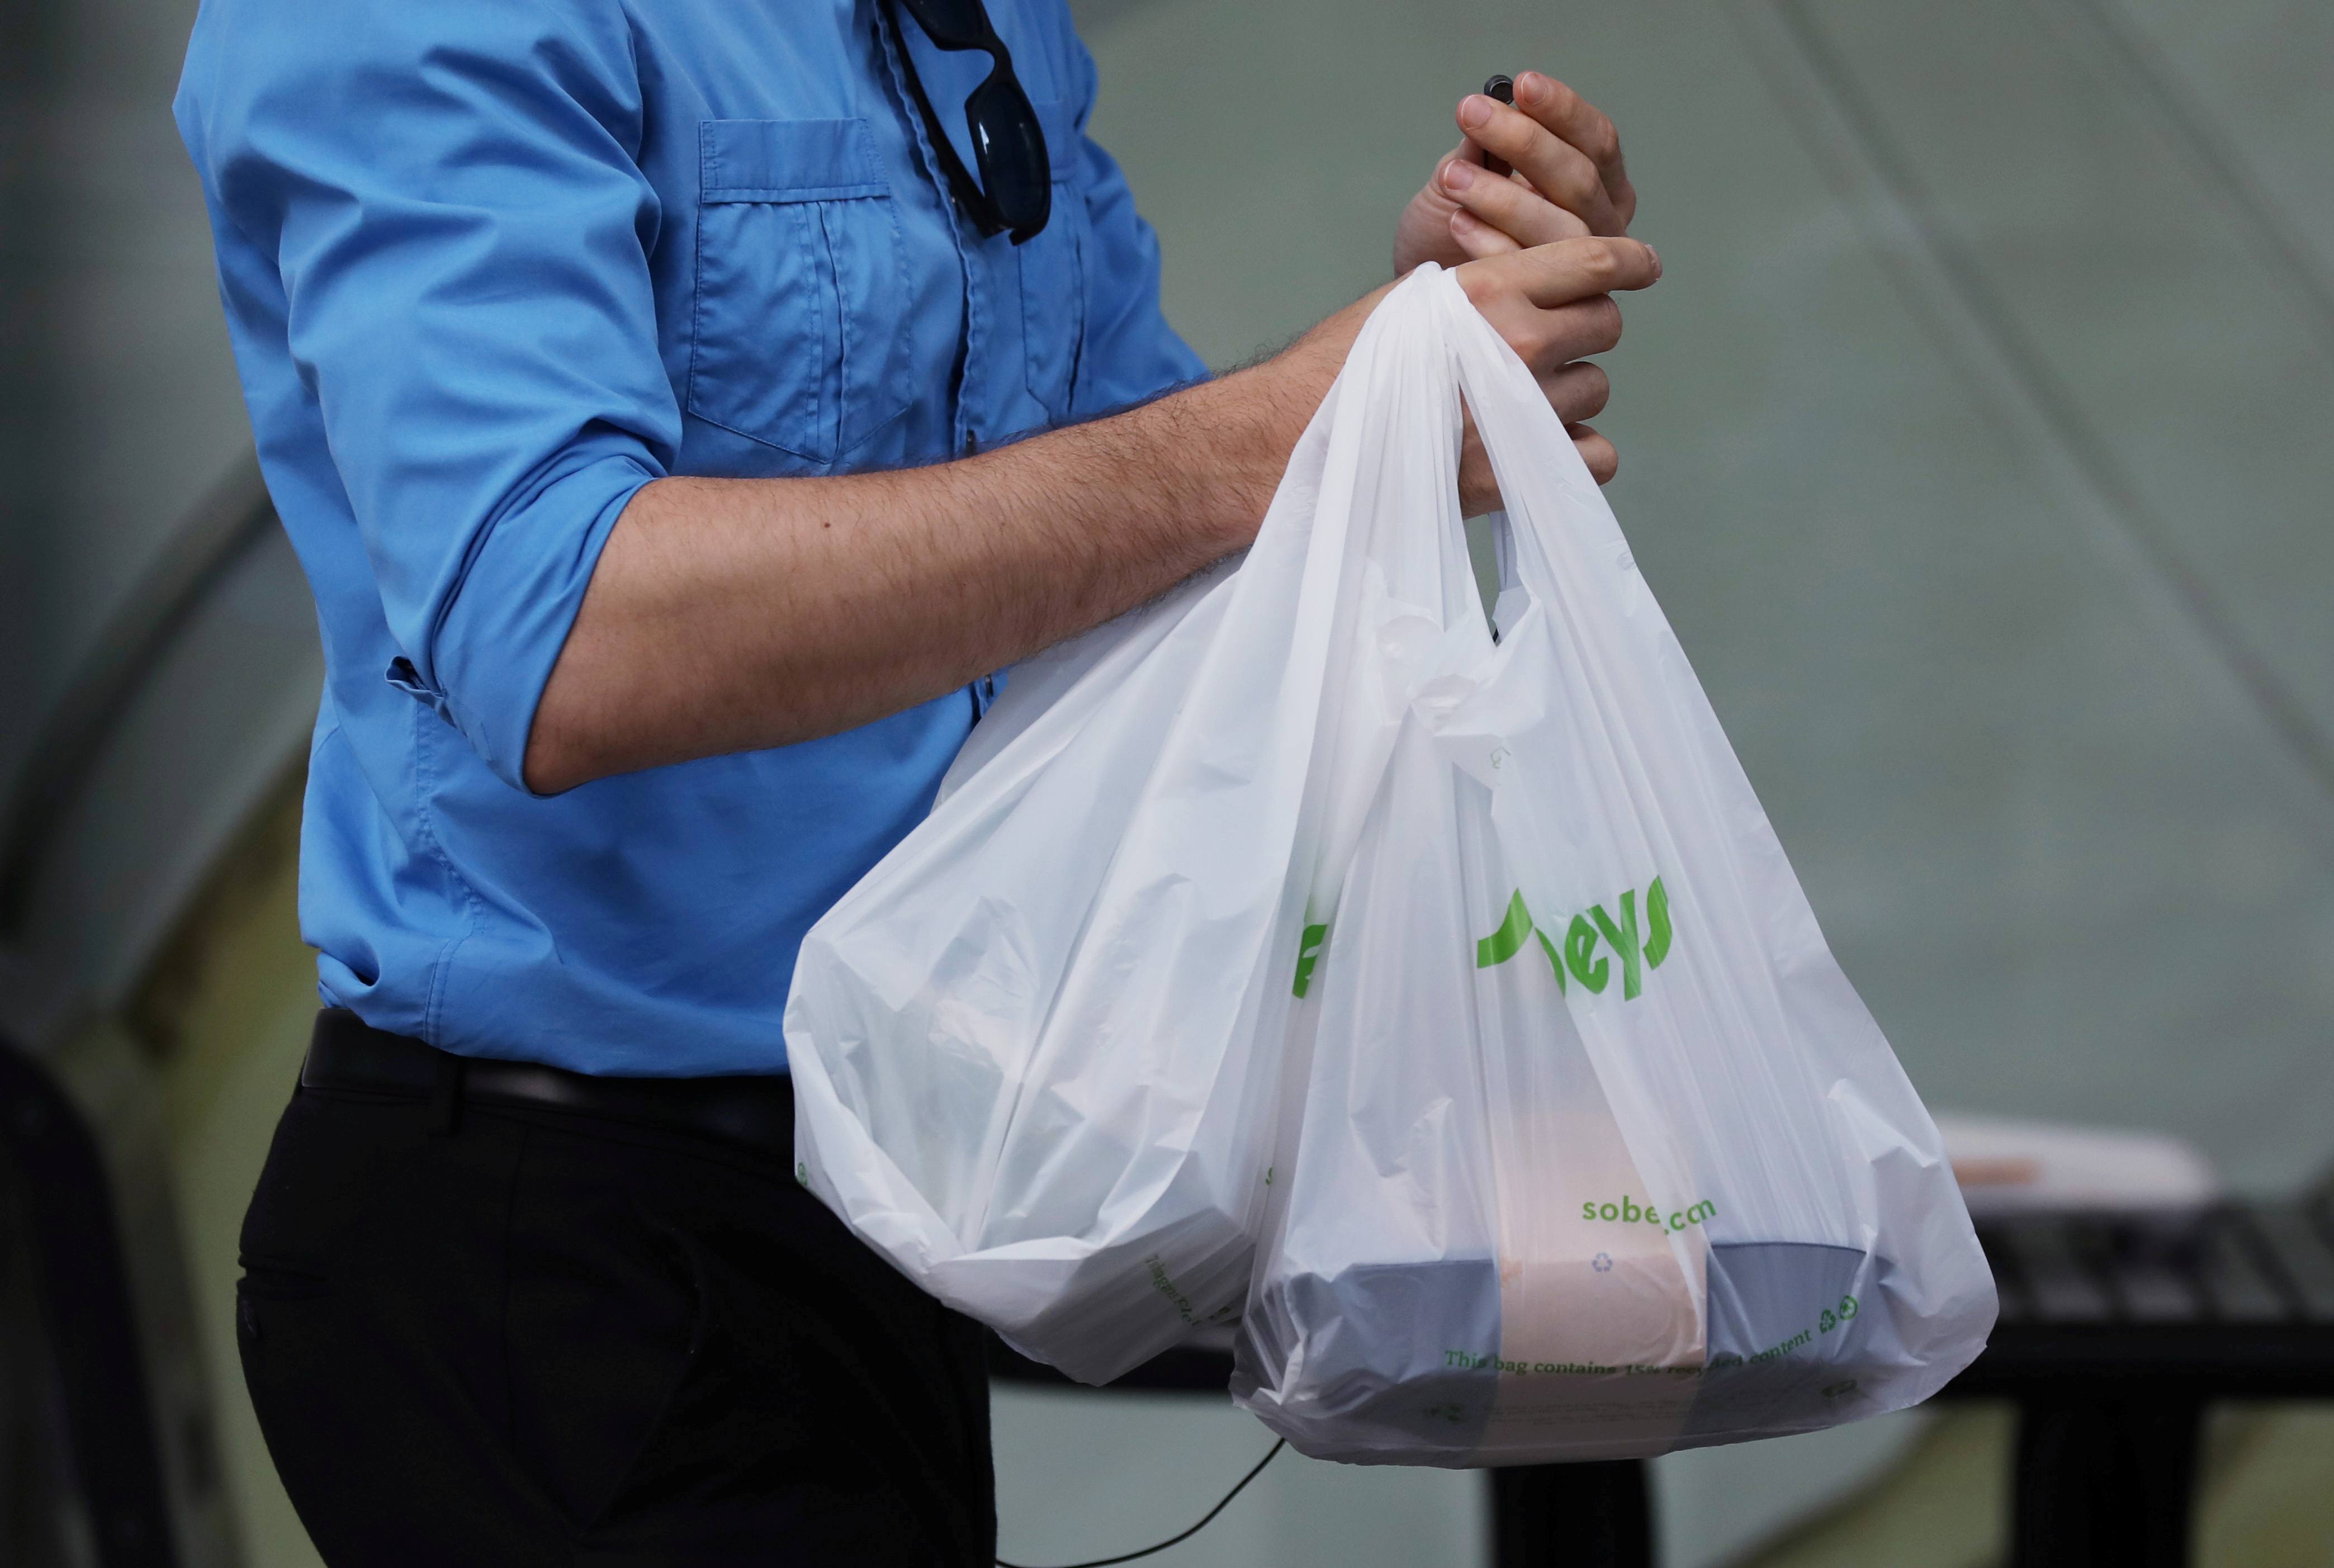PlasticBag: (1221, 310, 2007, 1452), (754, 476, 1363, 1347)
